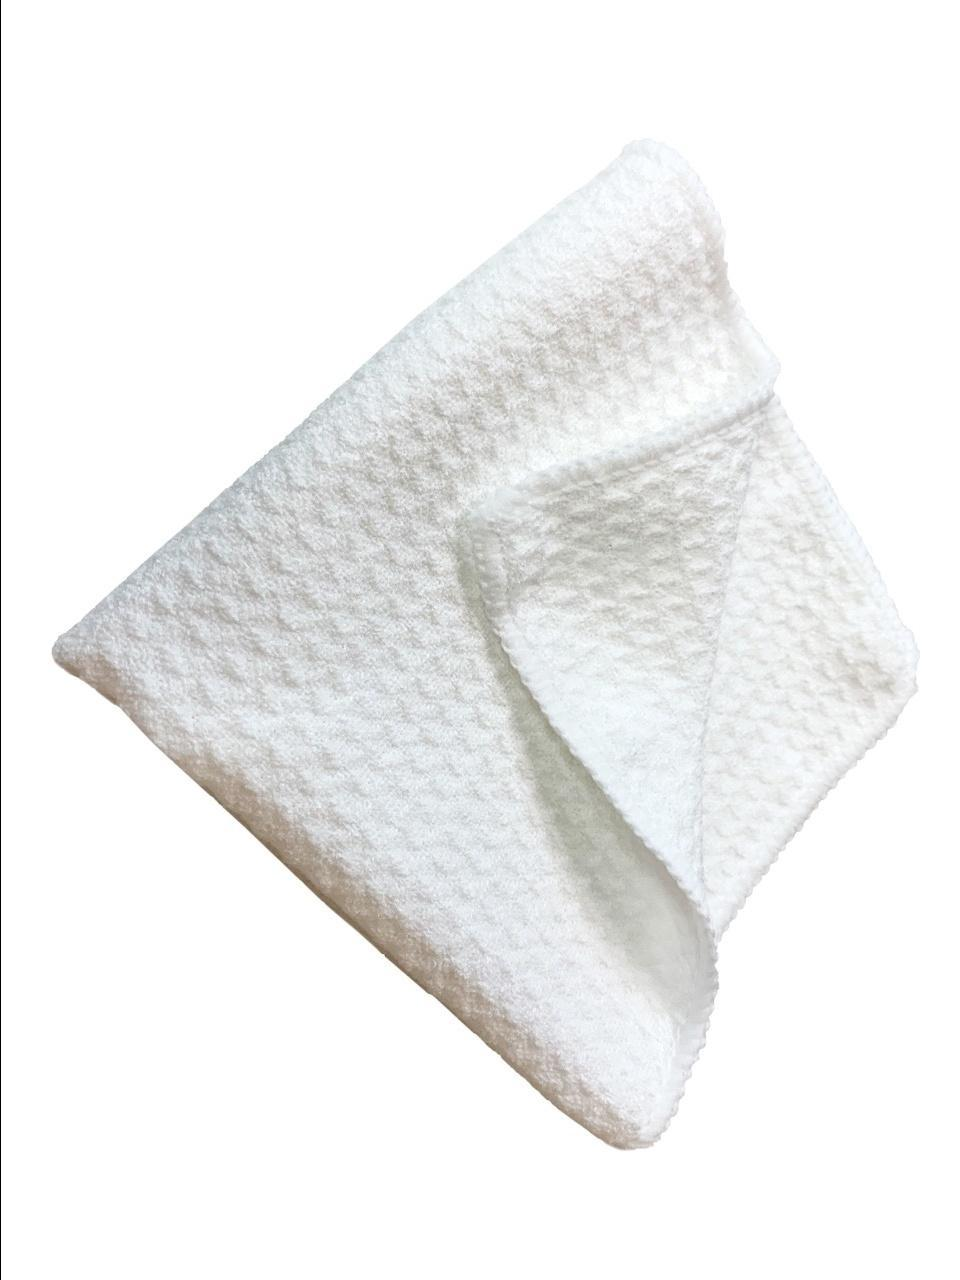towel: (36, 120, 934, 1203)
